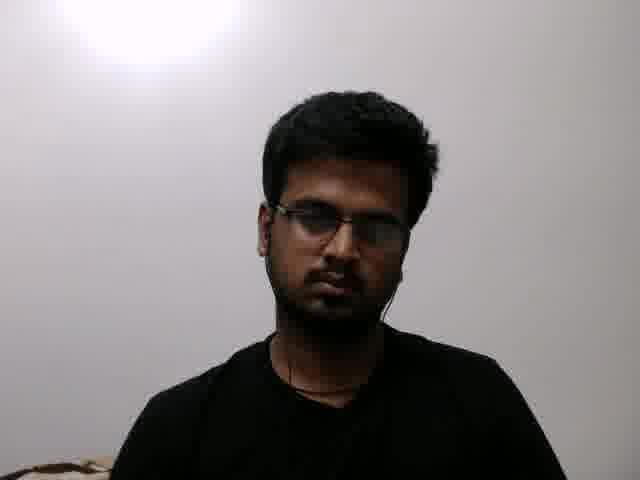bosan: (273, 159, 403, 319)
